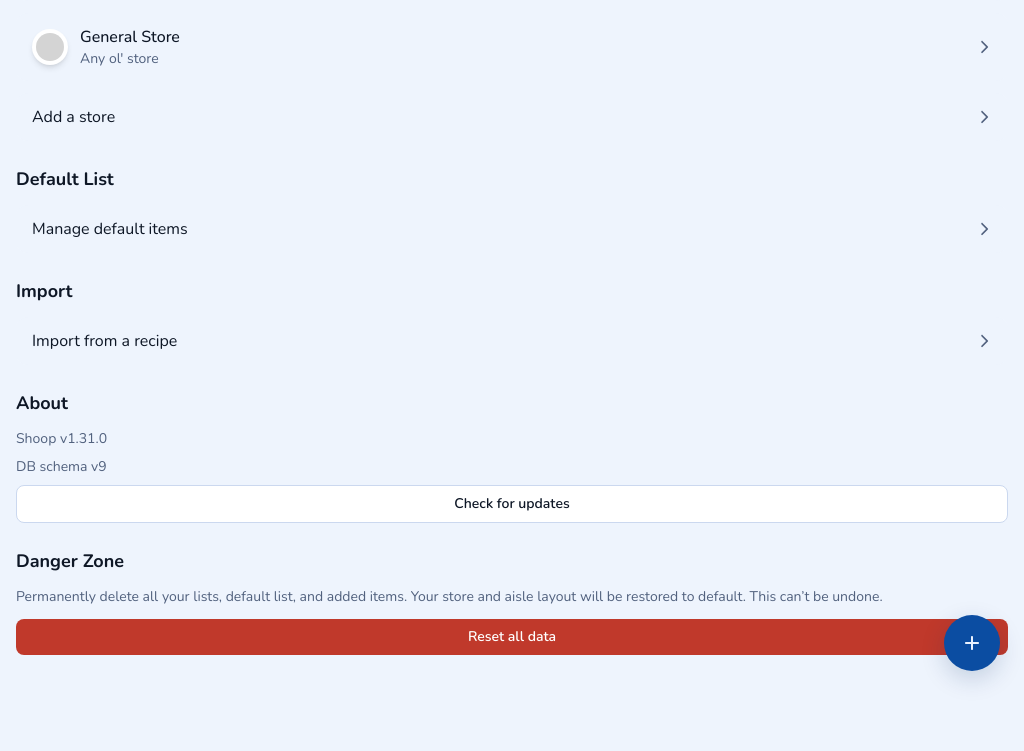
Test: SettingsRoute › cancelling the reset dialog keeps data
The image size is (1024, 751).
(page scrolled)
Click the button "Reset all data". click: x=512, y=637
box: [16, 619, 1008, 655]
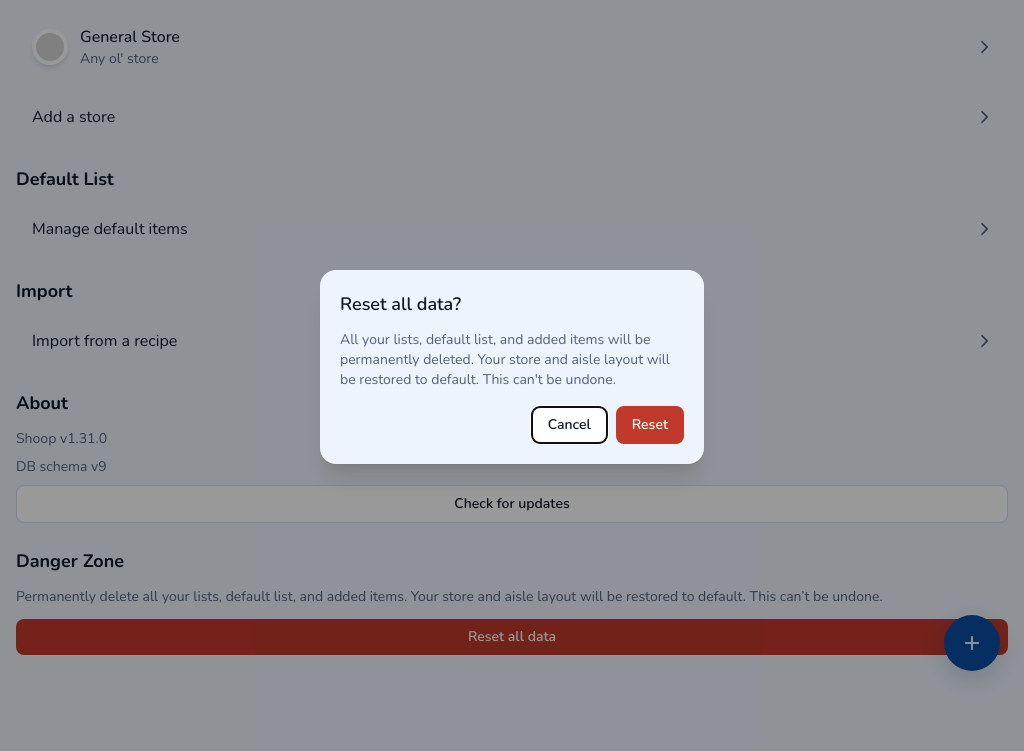
Click the button "Cancel". click: x=569, y=425
box: [531, 406, 608, 444]
(page scrolled)
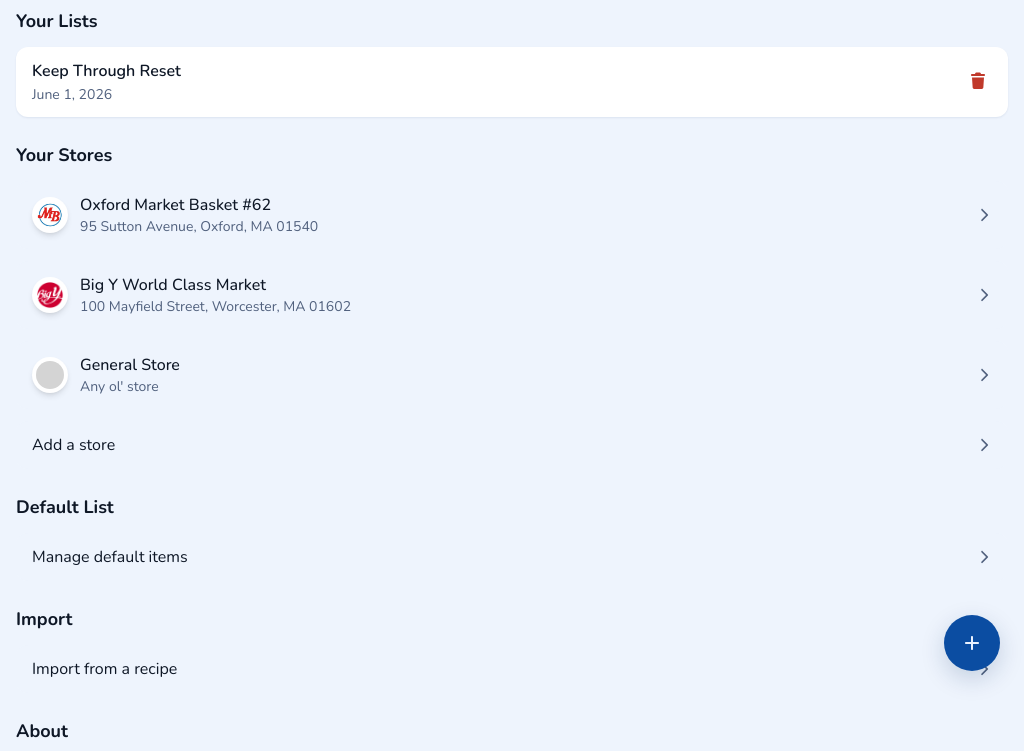
Expected: the text "Keep Through Reset" is shown, [32, 59, 181, 83]
Expected: the dialog is gone
